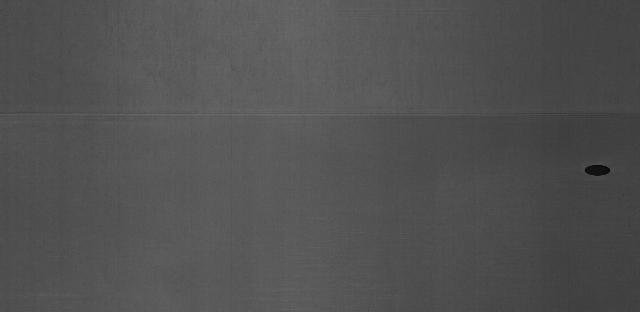punching_hole: (581, 162, 615, 181)
welding_line: (3, 102, 636, 128)
